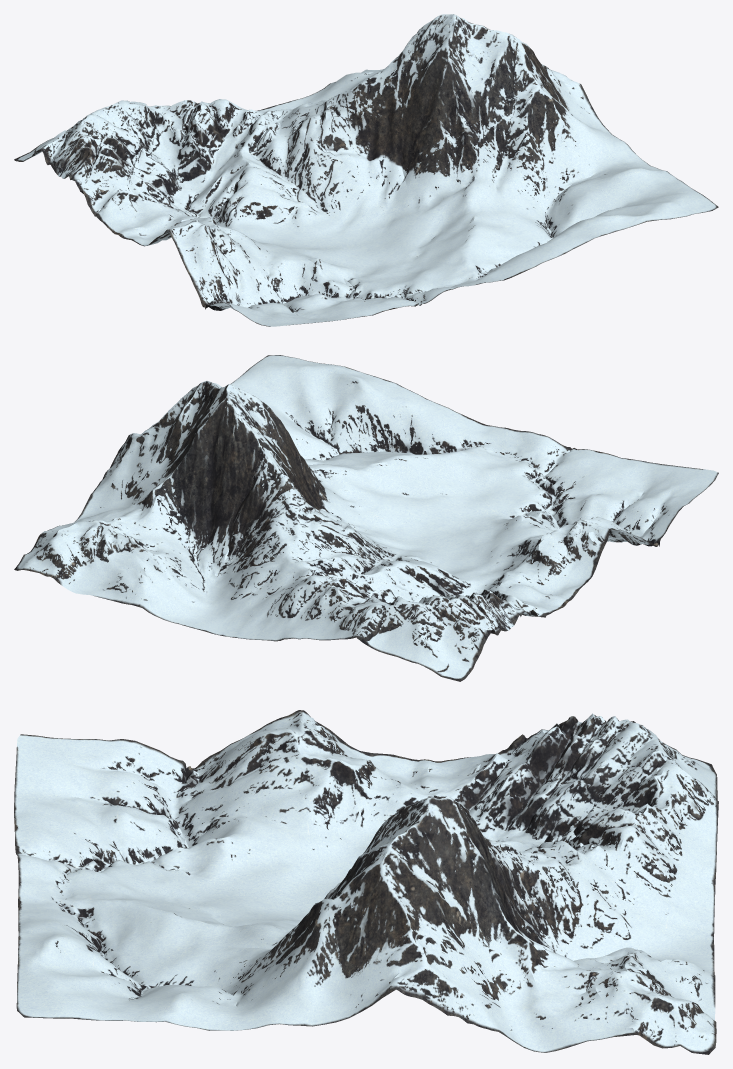
File: mountain.fbx
3 renders of one model, top to bottom at view 1: azimuth 30°, elevation 25°; view 2: azimuth 150°, elevation 25°; view 3: azimuth 270°, elevation 25°, orthographic. The views are drawn at different scales.
Visible parts, largest first — view 1: 3; view 2: 3; view 3: 3.
Part boxes in pixels (x1,y1,x2,y2): 3: (14,14,718,326); 3: (14,355,718,681); 3: (14,710,718,1054).
Bounding box in the file's own units: 536 × 183 × 537.
Materials: 1 (1 with a texture image).
